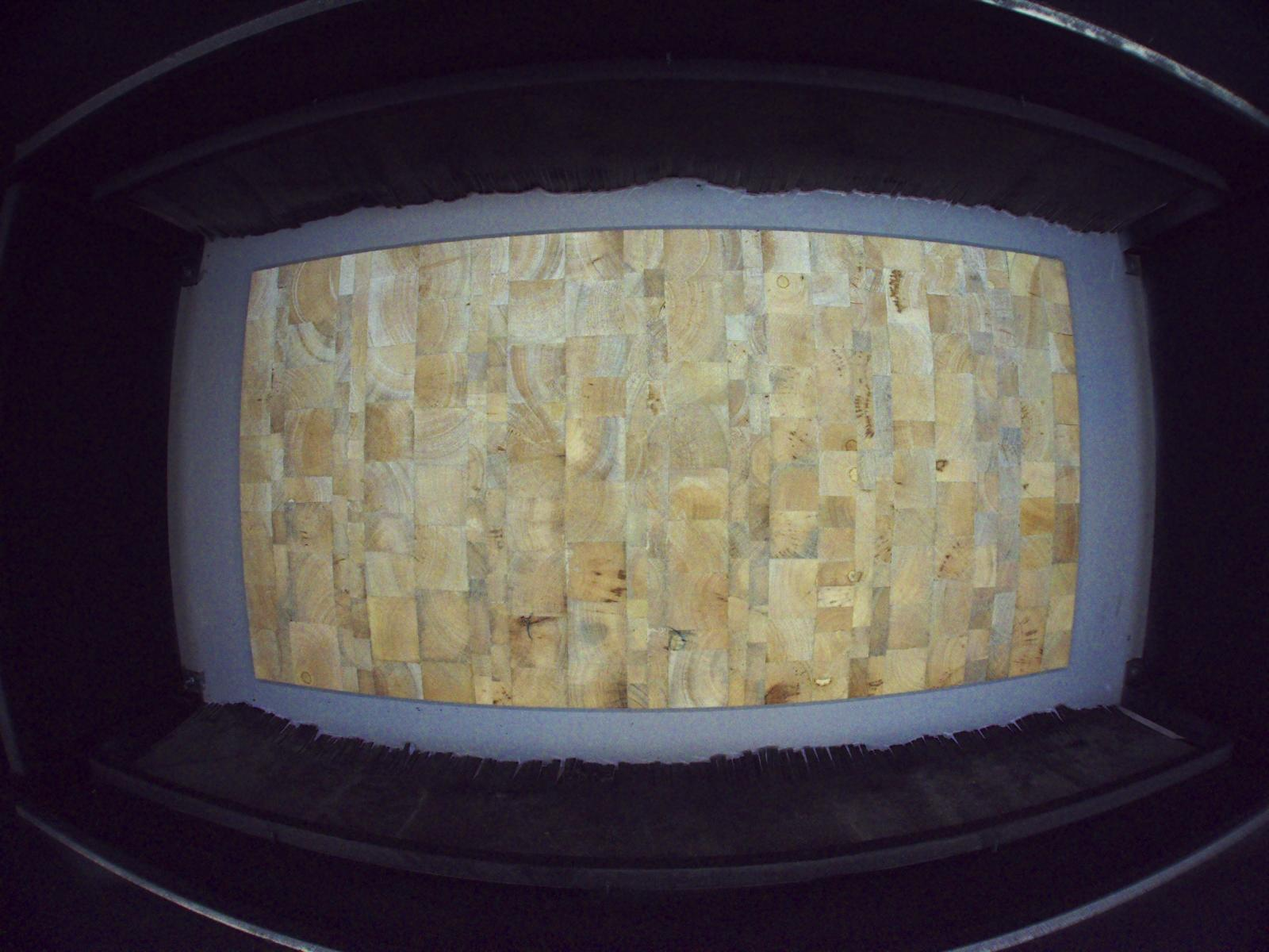nudillo: (516, 615, 558, 627)
